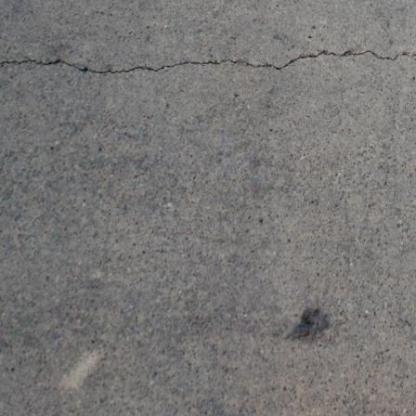Cracks: (0, 6, 416, 139)
